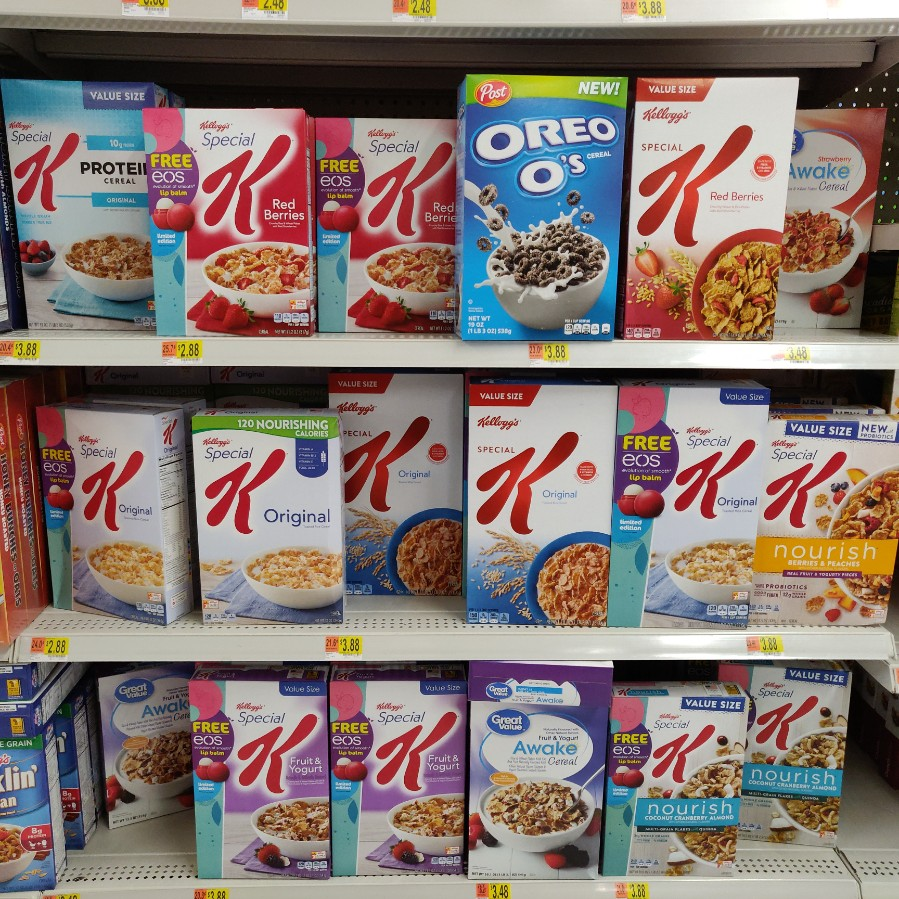Oreo-563424384: (457, 79, 625, 338)
